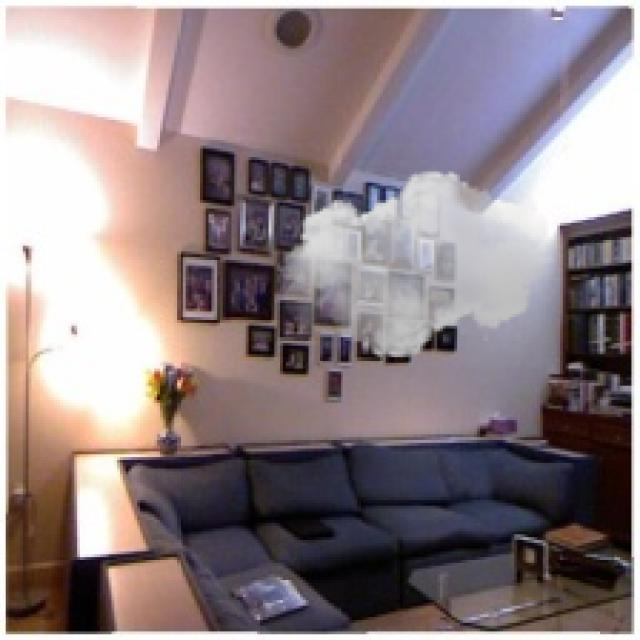smoke: (277, 163, 554, 366)
